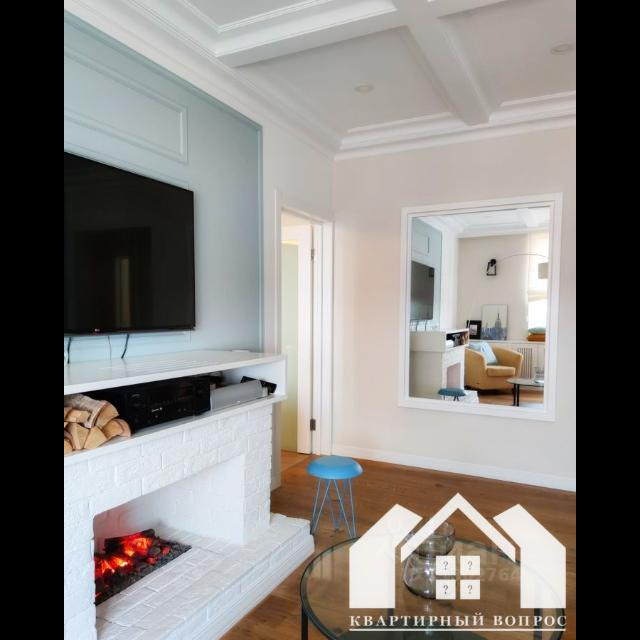Flat-Panel-TV: (64, 150, 198, 334)
